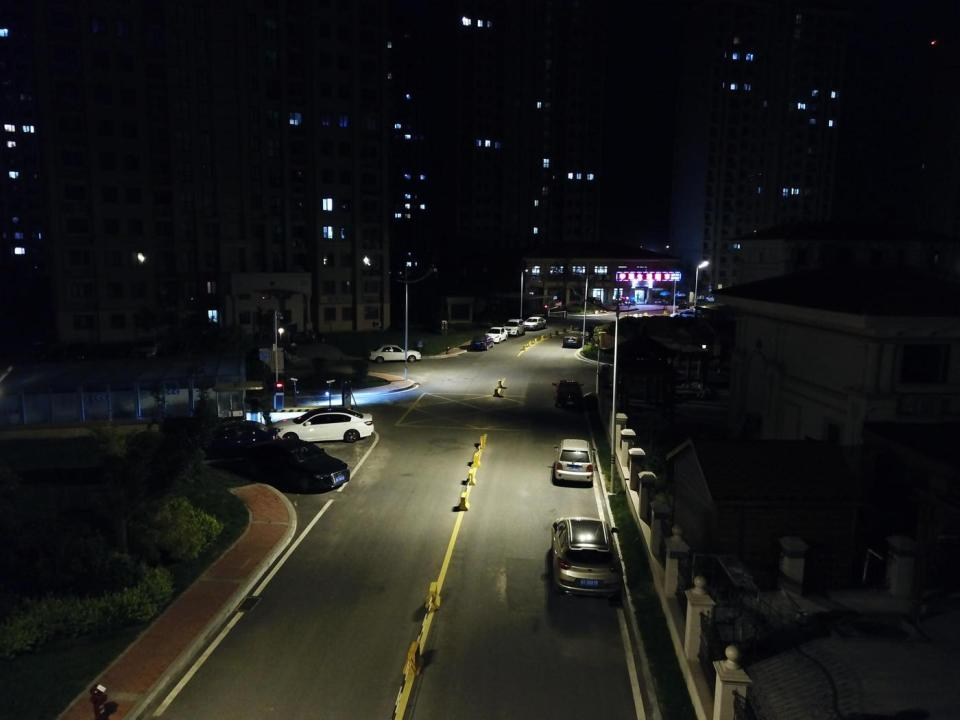car: (552, 516, 624, 600), (247, 436, 351, 492), (269, 408, 375, 444), (190, 421, 280, 459), (552, 438, 596, 484), (368, 344, 422, 363), (552, 379, 584, 408), (245, 346, 292, 364), (501, 318, 526, 338), (563, 330, 592, 347), (670, 310, 704, 322), (471, 334, 494, 350), (523, 316, 547, 331), (486, 327, 508, 343), (705, 294, 723, 302), (672, 290, 685, 298)
